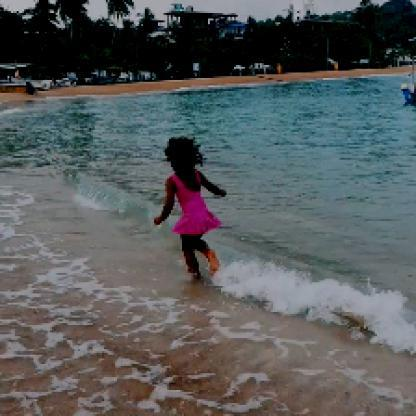child: (154, 137, 229, 277)
